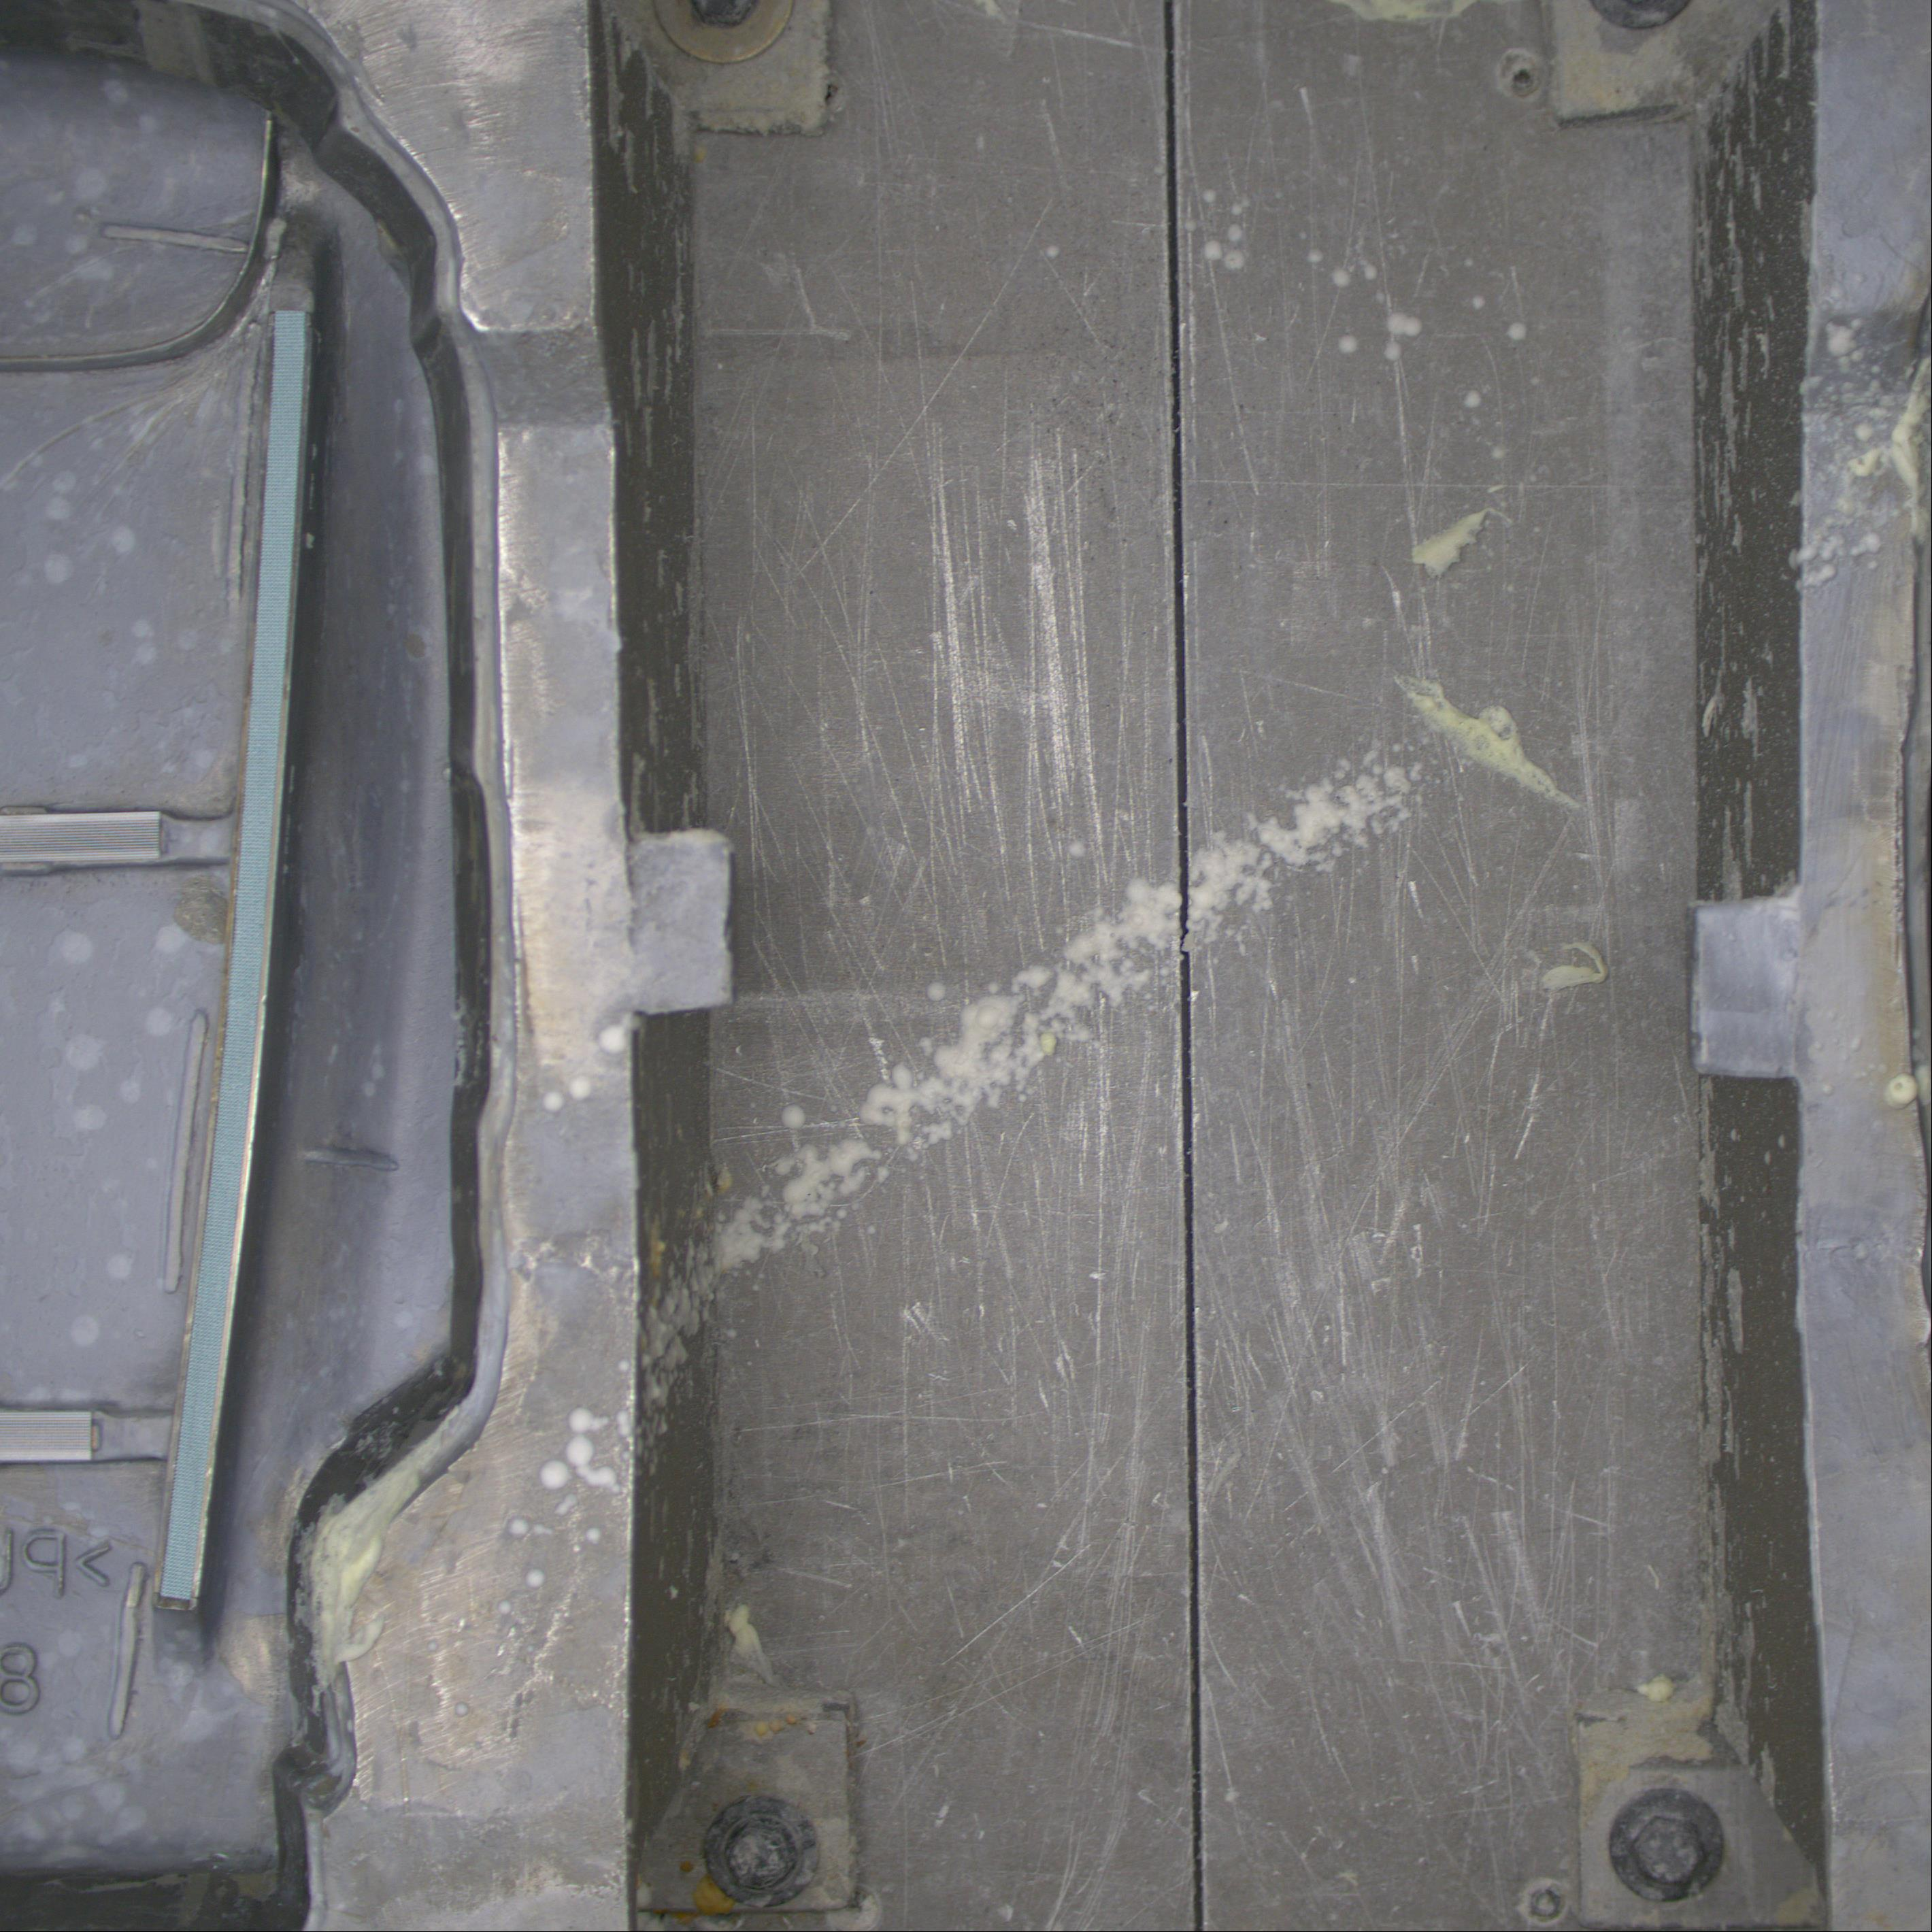Mold: (0, 0, 536, 1932)
